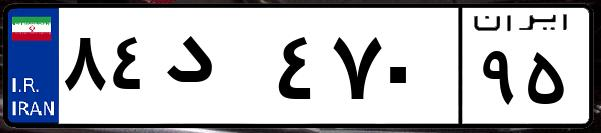0: (385, 28, 445, 110)
4: (270, 28, 330, 110), (110, 28, 158, 98)
5: (525, 38, 570, 115)
7: (330, 28, 385, 110)
8: (57, 26, 110, 100)
9: (475, 38, 525, 113)
د: (158, 20, 270, 120)
